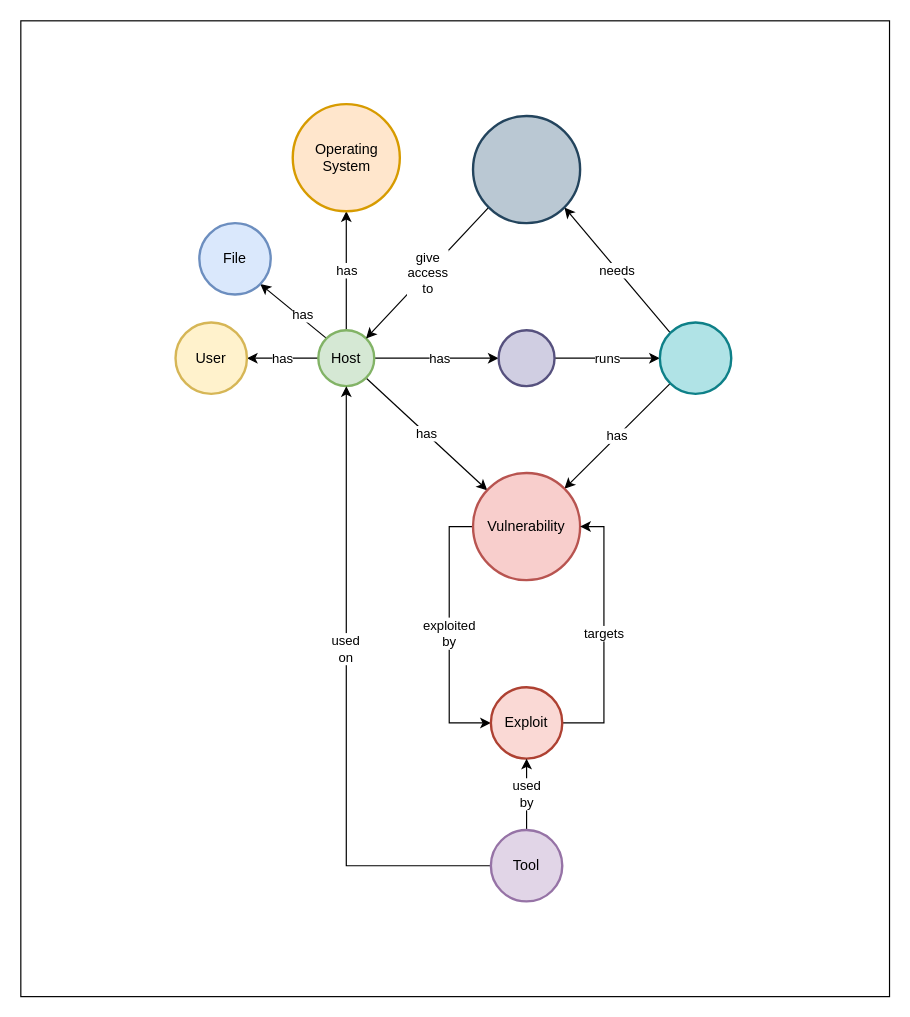
The diagram is 910 pixels wide and 1017 high, and some of its shapes have lost their labels. Here are the shapes that lost their labels. From the top down, the centre of each, then its label:
the point at 526,169: Credentials
the point at 526,357: Port
the point at 695,357: Service
